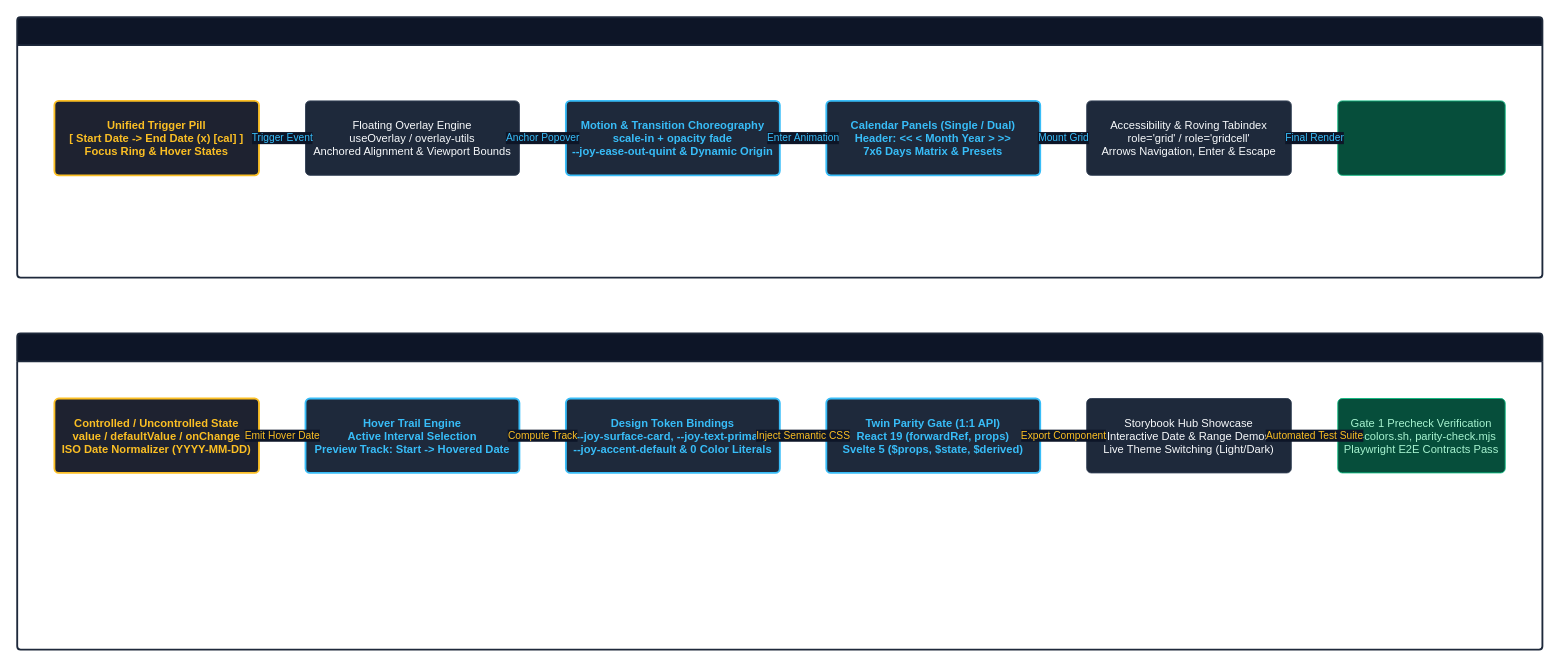
The diagram is 1559 pixels wide and 666 high, and some of its shapes have lost their labels. The box of each missing label's shape, as (x1, y1, x2, y2) in pixels:
PIPELINE A: Interactive Trigger & Popover Runtime Pipeline: (16, 16, 1543, 278)
PIPELINE B: State Lifecycle, Range Trail & Twin Contract Loop: (16, 332, 1543, 650)
Rendered Screen Matrix Dark & Light 100% Parity Desktop & Mobile Responsive: (1337, 100, 1505, 175)
